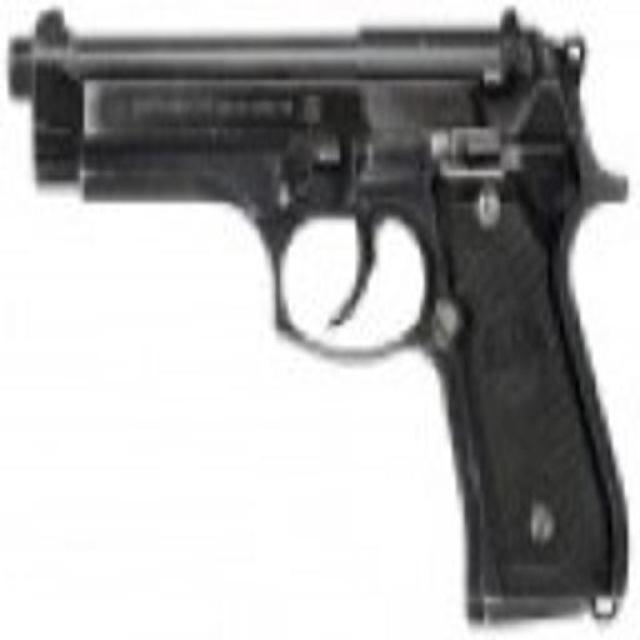pistol: (11, 5, 623, 607)
